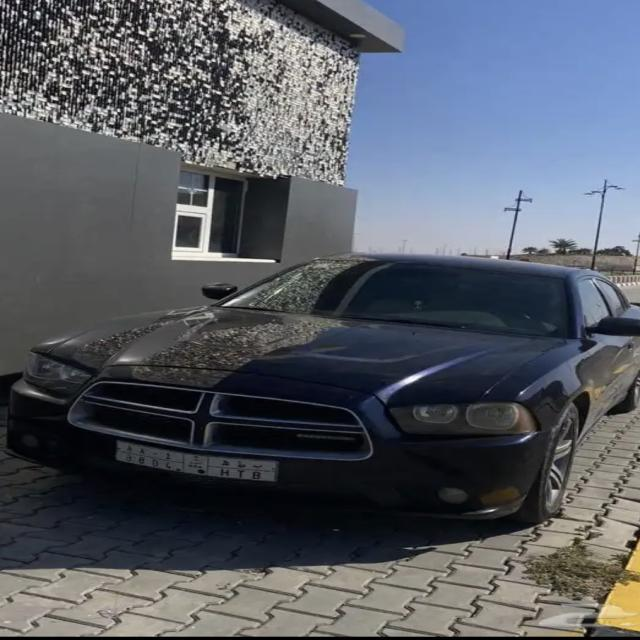license_plate: (117, 438, 279, 482)
